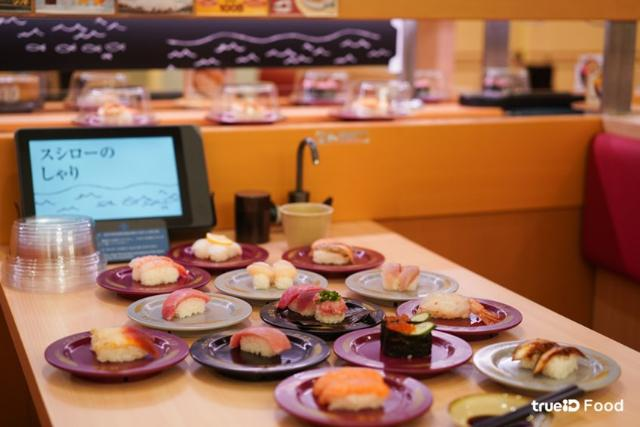janback: (204, 336, 319, 373), (289, 291, 366, 334)
janred: (44, 317, 193, 388), (248, 372, 418, 425), (397, 288, 541, 336), (343, 320, 457, 376), (62, 88, 163, 133), (108, 257, 208, 301), (303, 94, 406, 136), (283, 234, 373, 279), (206, 95, 290, 132), (176, 231, 259, 268)
janwhite: (453, 339, 608, 386), (140, 290, 247, 330), (224, 262, 325, 304)
